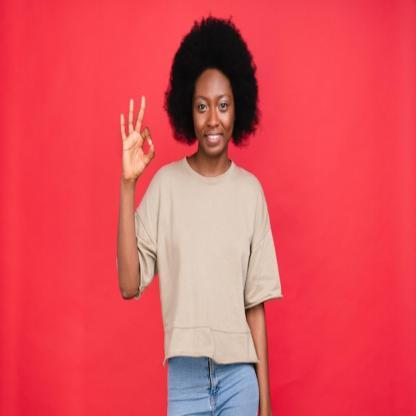ok: (117, 92, 158, 184)
